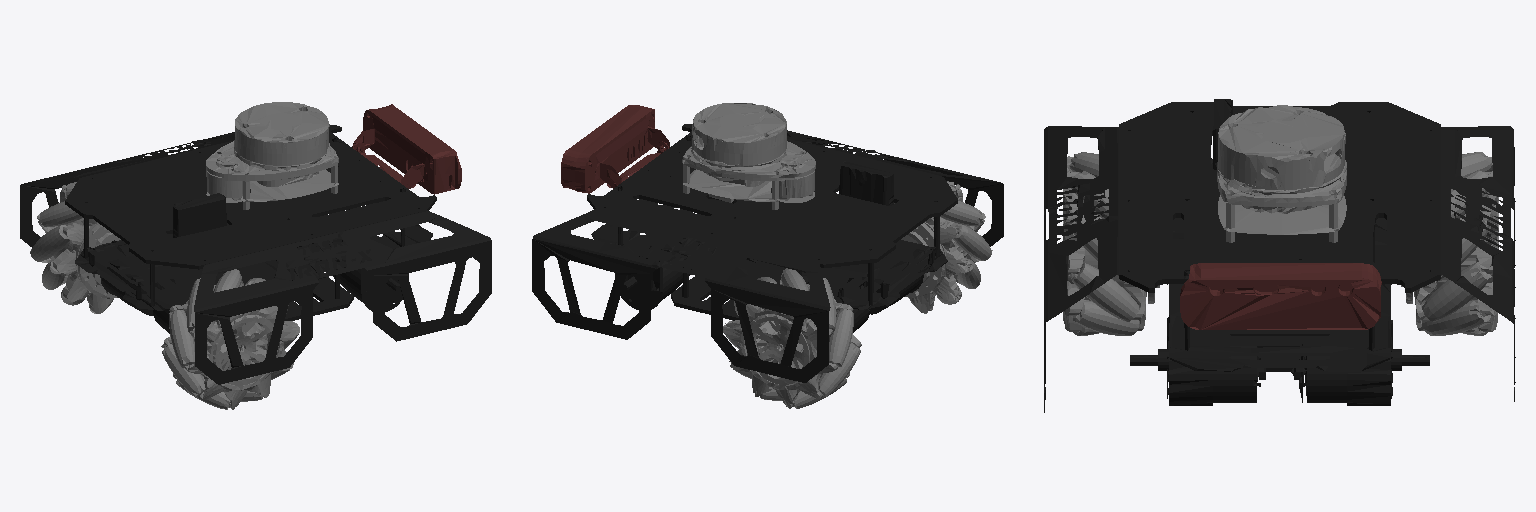
URDF robot description (ironx_3d_camera):
<?xml version="1.0" ?>
<robot name="ironx_3d_camera"
  xmlns:xacro="http://ros.org/wiki/xacro">

  <link name="base_footprint"/>

<!-- start ironx_structure -->
  <joint name="base_joint" type="fixed">
    <parent link="base_footprint"/>
    <child link="base_link"/>
    <origin xyz="0.0 0.0 0.0" rpy="0 0 0"/>
  </joint>

  <link name="base_link">
    <visual>
      <origin xyz="0 0 0.0235" rpy="0 0 0"/>
      <geometry>
        <mesh filename="package://ironx_description/meshes/stl/ironx_structure.stl"/>
      </geometry>
      <material name="c1"> 
        <color rgba="0.149 0.149 0.149 1.0"/> 
			</material>
    </visual>

    <collision>
      <origin xyz="0 0 0.04" rpy="0 0 0"/>
      <geometry>
        <box size="0.268 0.258 0.160"/>
      </geometry>
    </collision>

    <inertial>
      <origin xyz="0 0 0" rpy="0 0 0"/>
      <mass value="8.2573504e-01"/>
      <inertia ixx="2.2124416e-03" ixy="-1.2294101e-05" ixz="3.4938785e-05" iyy="2.1193702e-03" iyz="-5.0120904e-06" izz="2.0064271e-03" />
    </inertial>
  </link>
<!-- end ironx_structure -->

<!-- start wheel_1 -->
  <joint name="wheel_1_joint" type="fixed">
    <parent link="base_link"/>
    <child link="wheel_1_link"/>
    <!-- <limit effort = "30" velocity="10"/> -->
    <origin xyz="0.0745 0.0915 0.048" rpy="0 0 0"/>
    <!-- <axis xyz="0 0 1"/> -->
  </joint>

  <link name="wheel_1_link">
    <visual>
      <origin xyz="0 0 -0.048" rpy="0 0 0"/>
      <geometry>
        <mesh filename="package://ironx_description/meshes/stl/wheel_1.stl"/>
      </geometry>
      <material name="c2"> 
        <color rgba="0.498 0.498 0.498 1" /> 
			</material>
    </visual>

    <collision>
      <origin xyz="0 0 0" rpy="0 0 0"/>
      <geometry>
        <cylinder length="0.05" radius="0.048"/>
      </geometry>
    </collision>

    <inertial>
      <origin xyz="0 0 0" />
      <mass value="2.8498940e-02" />
      <inertia ixx="1.1175580e-05" ixy="-4.2369783e-11" ixz="-5.9381719e-09" iyy="1.1192413e-05" iyz="-1.4400107e-11" izz="2.0712558e-05" />
    </inertial>
  </link>
<!-- end wheel_1 -->

<!-- start wheel_2 -->
  <joint name="wheel_2_joint" type="fixed">
    <parent link="base_link"/>
    <child link="wheel_2_link"/>
    <limit effort = "30" velocity="10"/>
    <origin xyz="0.0745 -0.0915 0.048" rpy="0 0 0"/>
    <axis xyz="0 0 1"/>
  </joint>

  <link name="wheel_2_link">
    <visual>
      <origin xyz="0 0 -0.048" rpy="0 0 3.1416"/>
      <geometry>
        <mesh filename="package://ironx_description/meshes/stl/wheel_2.stl"/>
      </geometry>
      <material name="c3"> 
        <color rgba="0.498 0.498 0.498 1" /> 
			</material>
    </visual>

    <collision>
      <origin xyz="0 0 0" rpy="0 0 0"/>
      <geometry>
        <cylinder length="0.05" radius="0.048"/>
      </geometry>
    </collision>

    <inertial>
      <origin xyz="0 0 0" />
      <mass value="2.8498940e-02" />
      <inertia ixx="1.1175580e-05" ixy="-4.2369783e-11" ixz="-5.9381719e-09" iyy="1.1192413e-05" iyz="-1.4400107e-11" izz="2.0712558e-05" />
    </inertial>
  </link>
<!-- end wheel_2 -->

<!-- start wheel_3 -->
  <joint name="wheel_3_joint" type="fixed">
    <parent link="base_link"/>
    <child link="wheel_3_link"/>
    <limit effort = "30" velocity="10"/>
    <origin xyz="-0.0745 0.0915 0.048" rpy="0 0 0"/>
    <axis xyz="0 0 1"/>
  </joint>

  <link name="wheel_3_link">
    <visual>
      <origin xyz="0 0 -0.048" rpy="0 0 0"/>
      <geometry>
        <mesh filename="package://ironx_description/meshes/stl/wheel_3.stl"/>
      </geometry>
      <material name="c4"> 
        <color rgba="0.498 0.498 0.498 1" /> 
			</material>
    </visual>

    <collision>
      <origin xyz="0 0 0" rpy="0 0 0"/>
      <geometry>
        <cylinder length="0.05" radius="0.048"/>
      </geometry>
    </collision>

    <inertial>
      <origin xyz="0 0 0" />
      <mass value="2.8498940e-02" />
      <inertia ixx="1.1175580e-05" ixy="-4.2369783e-11" ixz="-5.9381719e-09" iyy="1.1192413e-05" iyz="-1.4400107e-11" izz="2.0712558e-05" />
    </inertial>
  </link>
<!-- end wheel_3 -->

<!-- start wheel_4 -->
  <joint name="wheel_4_joint" type="fixed">
    <parent link="base_link"/>
    <child link="wheel_4_link"/>
    <!-- <limit effort = "30" velocity="10"/> -->
    <origin xyz="-0.0745 -0.0915 0.048" rpy="0 0 0"/>
    <!-- <axis xyz="0 0 1"/> -->
  </joint>

  <link name="wheel_4_link">
    <visual>
      <origin xyz="0 0 -0.048" rpy="0 0 3.1416"/>
      <geometry>
        <mesh filename="package://ironx_description/meshes/stl/wheel_4.stl"/>
      </geometry>
      <material name="c5"> 
        <color rgba="0.498 0.498 0.498 1" /> 
			</material>
    </visual>

    <collision>
      <origin xyz="0 0 0" rpy="0 0 0"/>
      <geometry>
        <cylinder length="0.05" radius="0.048"/>
      </geometry>
    </collision>

    <inertial>
      <origin xyz="0 0 0" />
      <mass value="2.8498940e-02" />
      <inertia ixx="1.1175580e-05" ixy="-4.2369783e-11" ixz="-5.9381719e-09" iyy="1.1192413e-05" iyz="-1.4400107e-11" izz="2.0712558e-05" />
    </inertial>
  </link>
<!-- end wheel_4 -->

<!-- start imu -->
  <joint name="imu_joint" type="fixed">
    <parent link="base_link"/>
    <child link="imu_link"/>
    <origin xyz="-0.065 -0.013 0.080" rpy="0 0 0"/>
  </joint>

  <link name="imu_link">
    
  </link>
<!-- end imu -->

<!-- start scan -->
  <joint name="scan_joint" type="fixed">
    <parent link="base_link"/>
    <child link="base_scan"/>
    <origin xyz="0.025 0 0.145" rpy="0 0 0"/>
  </joint>

  <link name="base_scan">
    <visual>
      <origin xyz="0 0 -0.035" rpy="0 0 0"/>
      <geometry>
        <mesh filename="package://ironx_description/meshes/stl/lidar.stl"/>
      </geometry>
      <material name="c6"> 
        <color rgba="0.498 0.498 0.498 1.0" /> 
			</material>
    </visual>

    <collision>
      <origin xyz="0 0 0" rpy="0 0 0"/>
      <geometry>
        <cylinder length="0.0315" radius="0.055"/>
      </geometry>
    </collision>

    <inertial>
      <mass value="0.114" />
      <origin xyz="0 0 0" />
      <inertia ixx="0.001" ixy="0.0" ixz="0.0" iyy="0.001" iyz="0.0" izz="0.001" />
    </inertial>
  </link>
<!-- end scan -->

<!-- start camera3d -->
  <joint name="camera3d_joint" type="fixed">
    <parent link="base_link"/>
    <child link="camera_link"/>
    <origin xyz="0.112 0 0.20" rpy="0 0 0"/>
  </joint>

  <link name="camera_link">
    <visual>
      <origin xyz="0 0 -0.10" rpy="0 0 0"/>
      <geometry>
        <mesh filename="package://ironx_description/meshes/stl/3d_camera.stl"/>
      </geometry>
      <material name="c7"> 
        <color rgba="0.356 0.203 0.2 1" /> 
			</material>
    </visual>

    <collision>
      <origin xyz="0 0 0" rpy="0 0 0"/>
      <geometry>
        <cylinder length="0.0315" radius="0.055"/>
      </geometry>
    </collision>

    <inertial>
      <mass value="0.114" />
      <origin xyz="0 0 0" />
      <inertia ixx="0.001" ixy="0.0" ixz="0.0" iyy="0.001" iyz="0.0" izz="0.001" />
    </inertial>
  </link>
<!-- end camera3d -->

</robot>

--- What the picture shows (computed from the rendered views, not written in the file) ---
Views: 3 orthographic renders of the robot side by side, from view 1: azimuth 30°, elevation 25°; view 2: azimuth 150°, elevation 25°; view 3: azimuth 270°, elevation 25°.
Robot: ironx_3d_camera — 9 links, 8 joints (8 fixed); root link base_footprint; default pose: all joints at 0.
Links seen in each view (by area): view 1: base_link, base_scan, wheel_4_link, camera_link, wheel_3_link; view 2: base_link, base_scan, wheel_3_link, camera_link, wheel_4_link; view 3: base_link, base_scan, camera_link, wheel_3_link, wheel_4_link.
Boxes of the visible links, x1,y1,x2,y2 form: base_link: (20, 125, 491, 384); base_scan: (206, 102, 338, 209); wheel_4_link: (161, 269, 299, 409); camera_link: (352, 104, 461, 194); wheel_3_link: (30, 182, 120, 313); base_link: (532, 124, 1003, 382); base_scan: (682, 103, 815, 209); wheel_3_link: (723, 268, 861, 408); camera_link: (561, 105, 669, 193); wheel_4_link: (894, 181, 992, 313); base_link: (1044, 99, 1515, 412); base_scan: (1217, 105, 1346, 242); camera_link: (1180, 263, 1381, 329); wheel_3_link: (1401, 152, 1498, 335); wheel_4_link: (1063, 152, 1159, 335).
Bounding box of the posed robot: 0.2691 × 0.2553 × 0.1635 m (x, y, z).
5 mesh visuals loaded from 7 distinct referenced files (5 binary STL); not drawn: 2 (reference not matched to a file when rendering).
